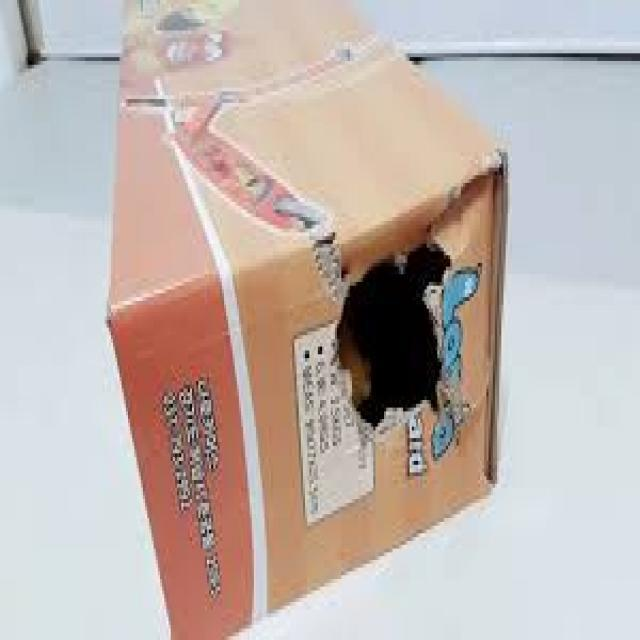damaged: (335, 248, 456, 434)
